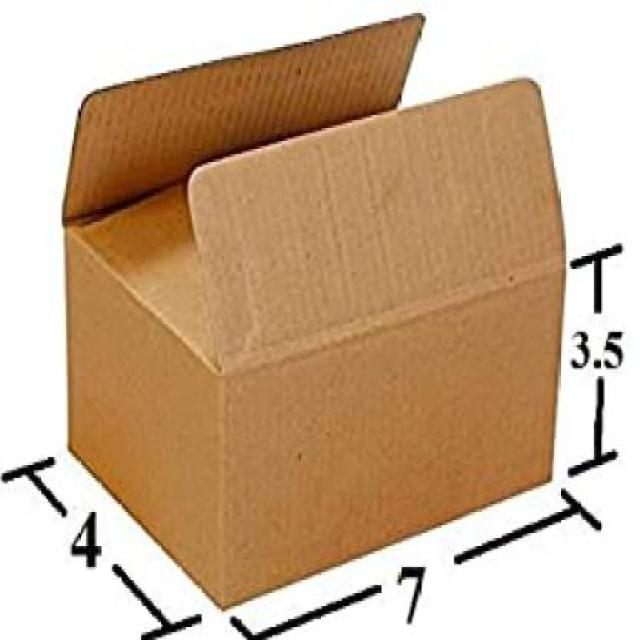box: (58, 14, 567, 615)
